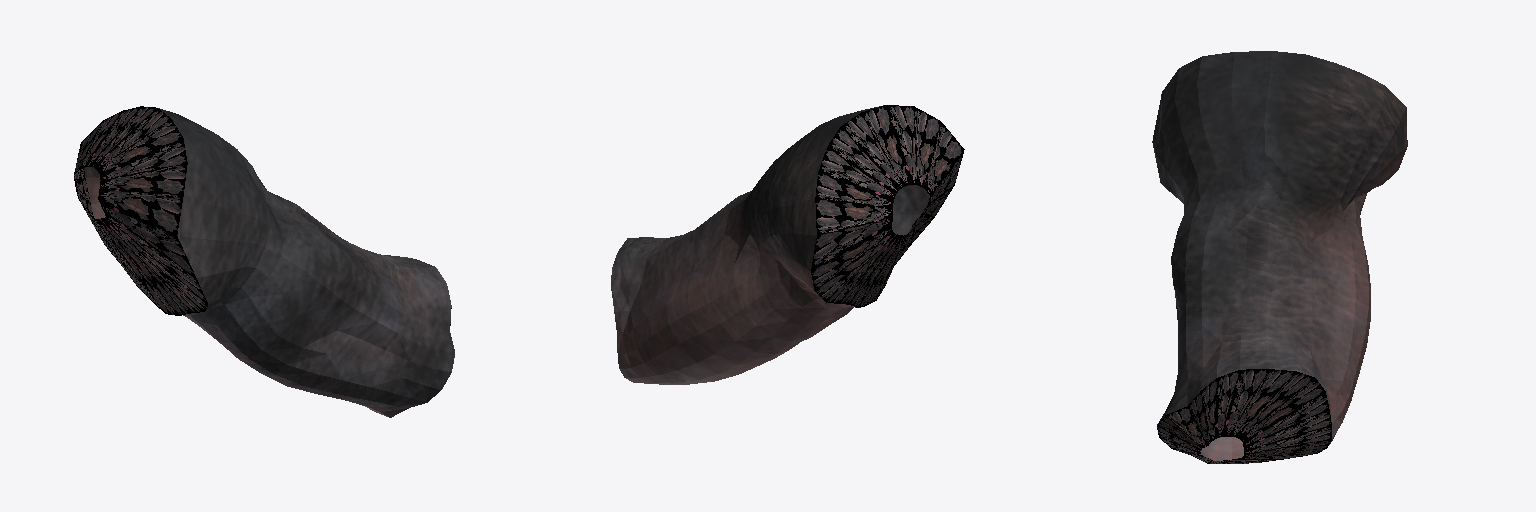
3 views of the same model, side by side, from view 1: azimuth 30°, elevation 25°; view 2: azimuth 150°, elevation 25°; view 3: azimuth 270°, elevation 25° (orthographic).
Visible parts, largest first — view 1: Shoulder_R_Elbow_R_Cut; view 2: Shoulder_R_Elbow_R_Cut; view 3: Shoulder_R_Elbow_R_Cut.
Part boxes in pixels (x1,y1,x2,y2): Shoulder_R_Elbow_R_Cut: (74, 106, 454, 417); Shoulder_R_Elbow_R_Cut: (611, 105, 964, 384); Shoulder_R_Elbow_R_Cut: (1152, 51, 1407, 463).
Size of the model in its own units: 2.52 by 2.43 by 1.74.
Materials: 1 (1 with a texture image).